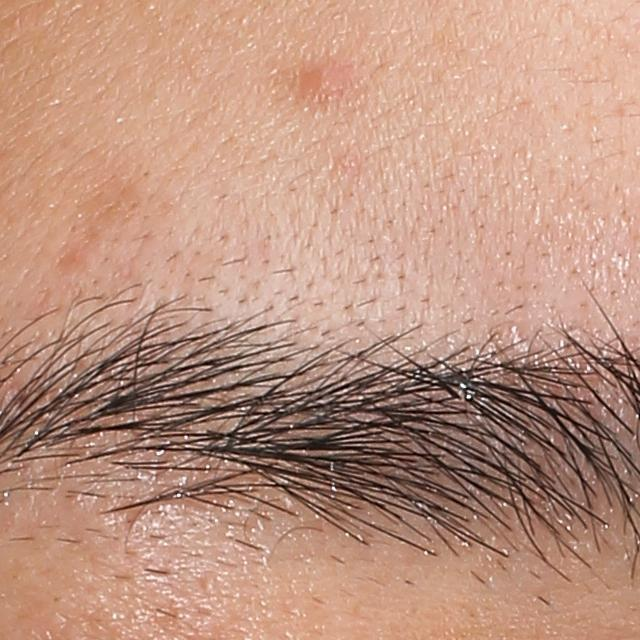papule: (303, 59, 347, 96)
